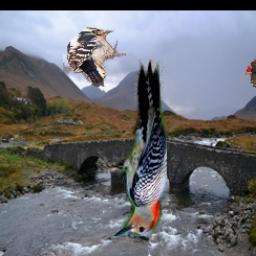Woodpecker: (104, 61, 167, 237), (63, 26, 126, 87), (244, 59, 256, 92)
